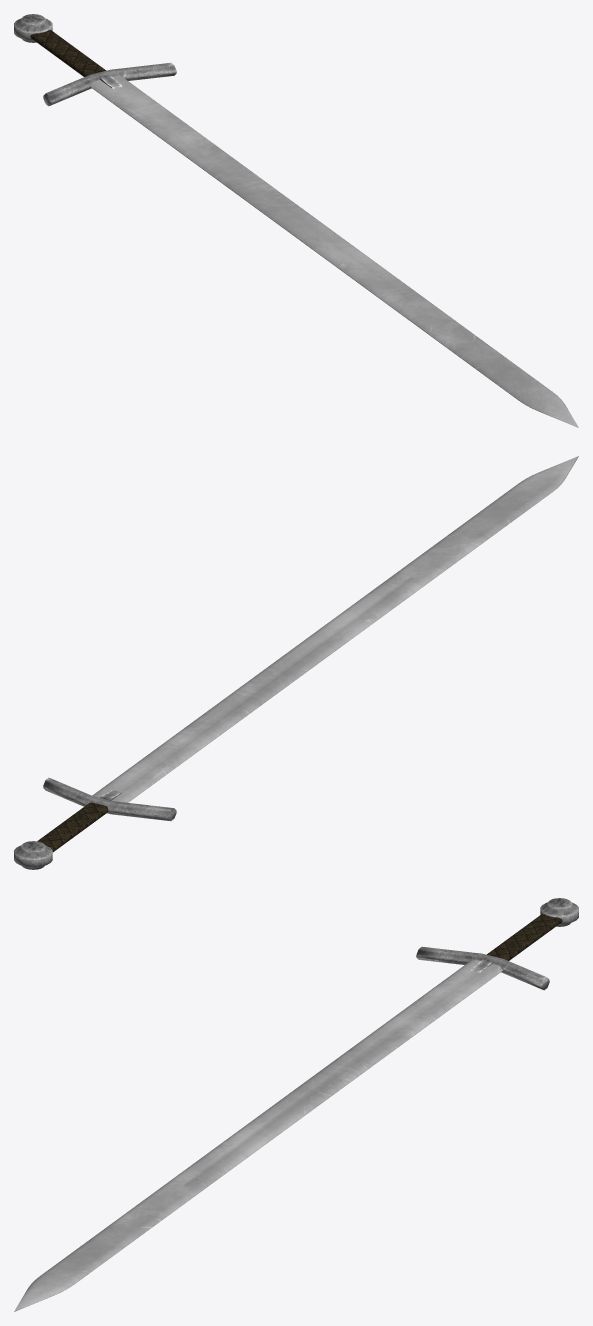
The model's file is Claymore.fbx.
The picture shows the model from 3 angles, top to bottom: view 1: azimuth 30°, elevation 25°; view 2: azimuth 150°, elevation 25°; view 3: azimuth 330°, elevation 25°; orthographic projection.
Parts seen in each view (by area): view 1: Blade, Guard, Handle.2, Handle; view 2: Blade, Guard, Handle.2, Handle; view 3: Blade, Guard, Handle.2, Handle.
Part boxes in pixels (left/top/right/bottom): Blade: left=90, top=76, right=578, bottom=427; Guard: left=43, top=62, right=176, bottom=106; Handle.2: left=30, top=30, right=105, bottom=76; Handle: left=14, top=14, right=52, bottom=42; Blade: left=92, top=456, right=578, bottom=802; Guard: left=43, top=777, right=176, bottom=821; Handle.2: left=37, top=802, right=108, bottom=852; Handle: left=14, top=841, right=52, bottom=869; Blade: left=14, top=960, right=502, bottom=1311; Guard: left=416, top=946, right=549, bottom=990; Handle.2: left=487, top=914, right=562, bottom=960; Handle: left=540, top=898, right=578, bottom=926.
Bounding box in the file's own units: 18.23 × 2.61 × 140.
4 materials, 4 textured.
